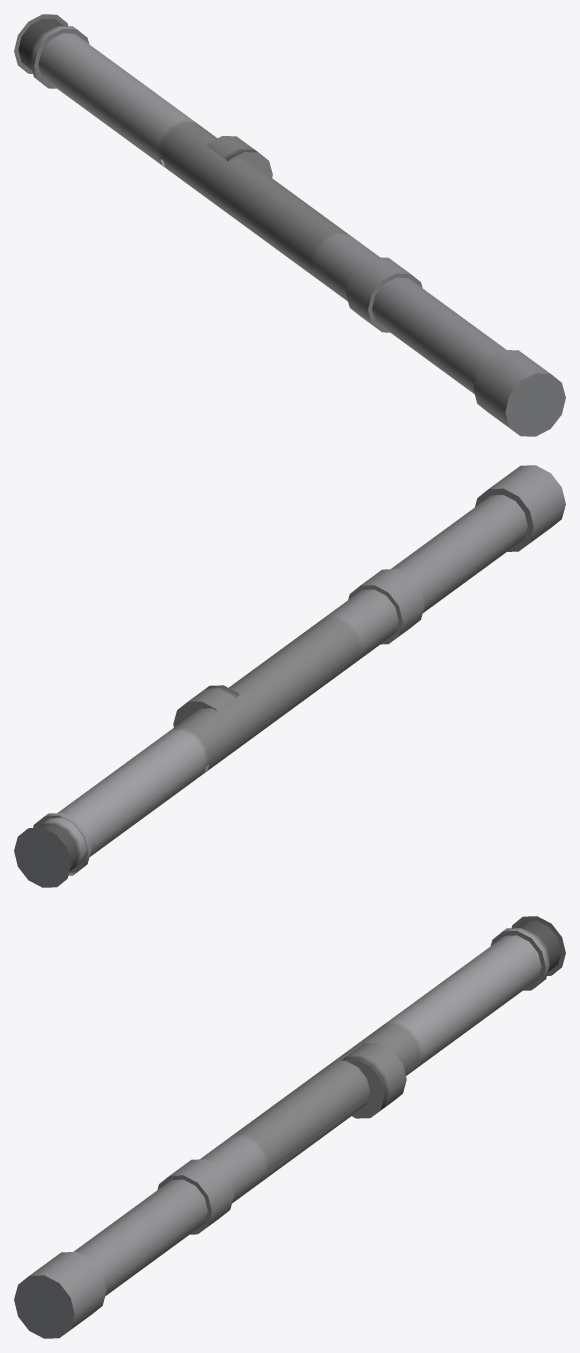
3 renders of one model, top to bottom at view 1: azimuth 30°, elevation 25°; view 2: azimuth 150°, elevation 25°; view 3: azimuth 330°, elevation 25°, orthographic.
Bounding box in the file's own units: 0.1994 × 0.1748 × 2.46.
